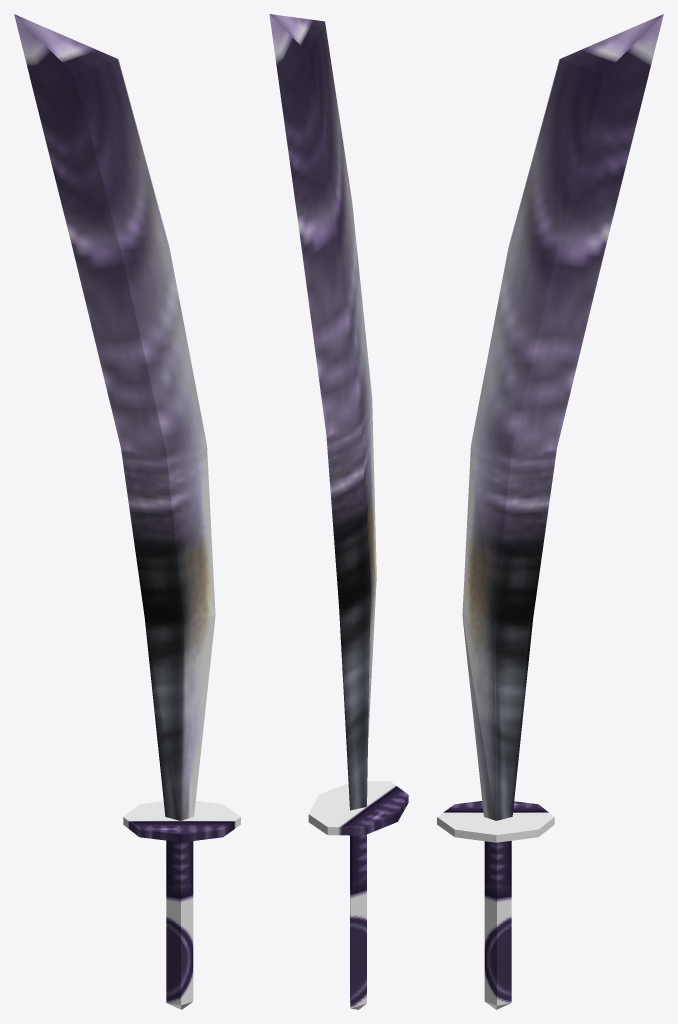
The model's file is heavybladev02_6.obj.
The picture shows the model from 3 angles, left to right: view 1: azimuth 90°, elevation 25°; view 2: azimuth 150°, elevation 25°; view 3: azimuth 270°, elevation 25°; orthographic projection. The views are drawn at different scales.
Parts seen in each view (by area): view 1: MDL_cw2hkt02_6; view 2: MDL_cw2hkt02_6; view 3: MDL_cw2hkt02_6.
Part boxes in pixels (left/top/right/bottom): MDL_cw2hkt02_6: left=14, top=14, right=240, bottom=1009; MDL_cw2hkt02_6: left=269, top=14, right=408, bottom=1009; MDL_cw2hkt02_6: left=437, top=14, right=663, bottom=1009.
Size of the model in its own units: 0.1388 by 1.79 by 0.3688.
